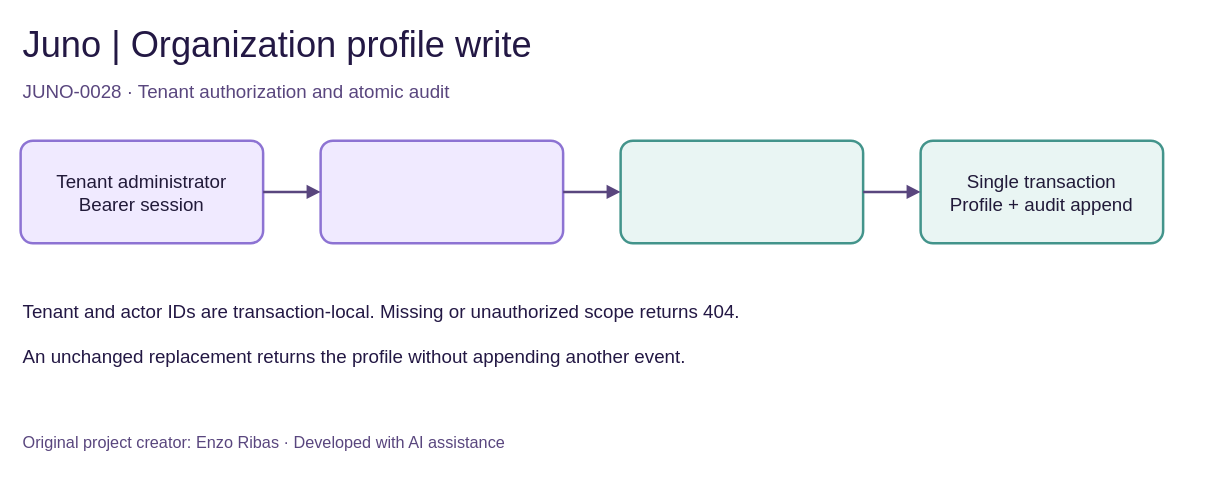
The diagram is 1216 pixels wide and 483 high, and some of its shapes have lost their labels. The shapes that lost their labels are listed below. From the top down, each one's centre as x and y in pixels, then its label:
At point (441, 191): "API · PUT profile Validate body and actor".
At point (741, 191): "Scoped PostgreSQL role Active administrator RLS".
